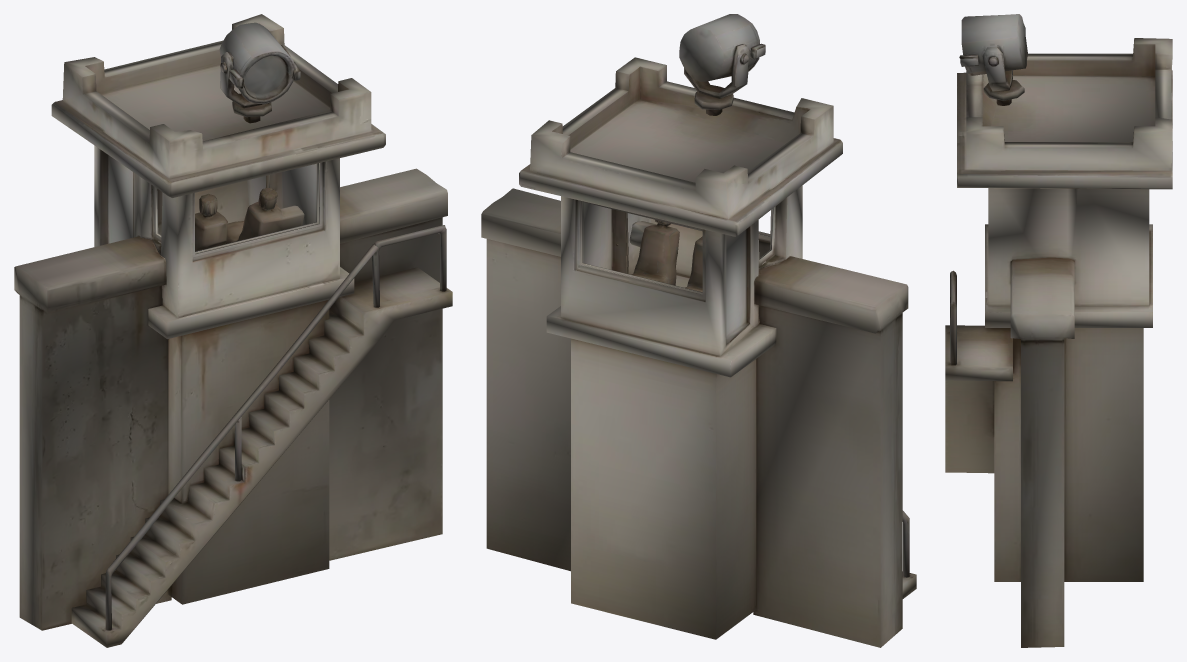
Rendered from guarita_muro.glb.
3 renders of one model, left to right at view 1: azimuth 30°, elevation 25°; view 2: azimuth 150°, elevation 25°; view 3: azimuth 270°, elevation 25°, orthographic. The views are drawn at different scales.
Visible parts, largest first — view 1: Weathered Watchtower Guard Booth; view 2: Weathered Watchtower Guard Booth; view 3: Weathered Watchtower Guard Booth.
Part boxes in pixels (box(x1,y1,x2,y2)): Weathered Watchtower Guard Booth: box(14, 14, 452, 647); Weathered Watchtower Guard Booth: box(481, 14, 916, 647); Weathered Watchtower Guard Booth: box(945, 14, 1172, 647).
Size of the model in its own units: 0.7441 by 0.998 by 0.3809.
Materials: 1 (1 with a texture image).
